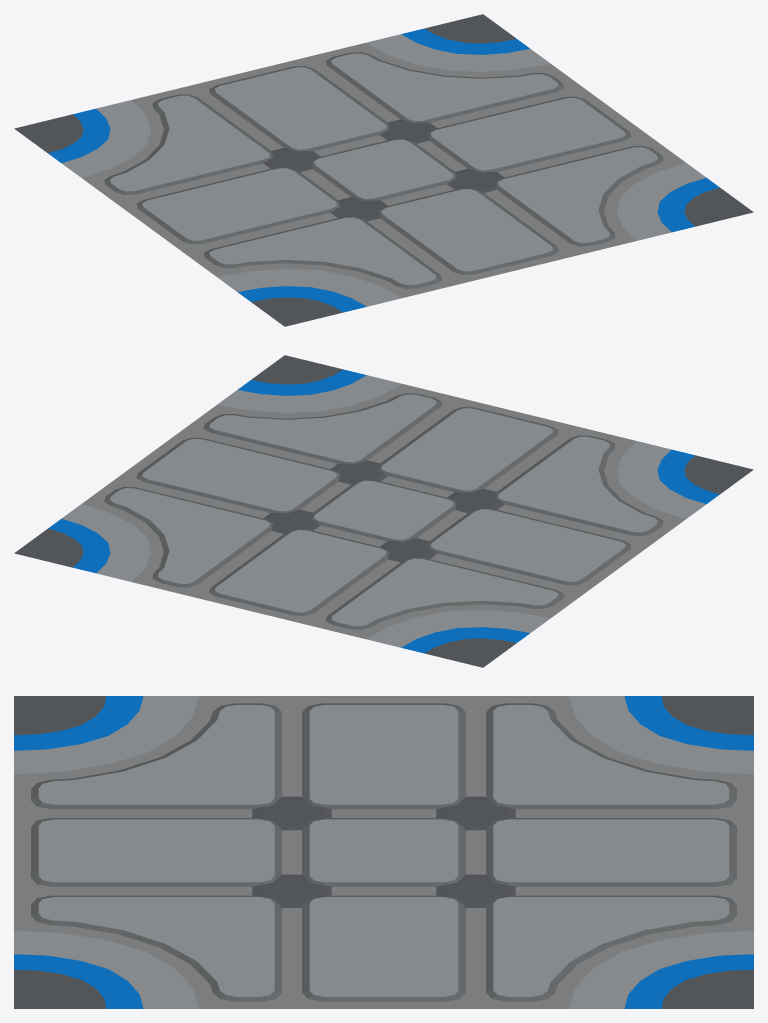
File: Floor_type_B_015.glb
3 views of the same model, one above another, from view 1: azimuth 30°, elevation 25°; view 2: azimuth 150°, elevation 25°; view 3: azimuth 270°, elevation 25° (orthographic). The views are drawn at different scales.
Visible parts, largest first — view 1: Floor_type_B_015; view 2: Floor_type_B_015; view 3: Floor_type_B_015.
Boxes of the visible parts, x1,y1,x2,y2 form: Floor_type_B_015: (14, 14, 753, 326); Floor_type_B_015: (14, 355, 753, 667); Floor_type_B_015: (14, 696, 753, 1008).
Bounding box in the file's own units: 4 × 0.0134 × 4.
Materials: 2 (2 with a texture image).
